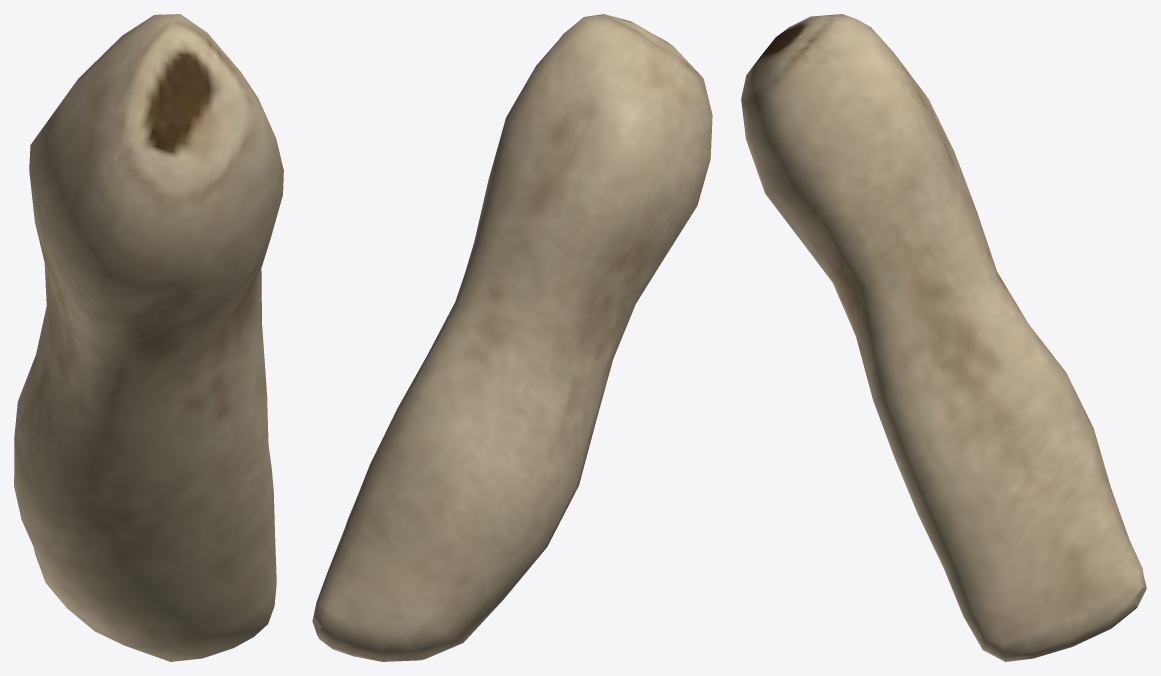
Rendered from Caudal_Vertebrae5.glb.
The picture shows the model from 3 angles, left to right: view 1: azimuth 30°, elevation 25°; view 2: azimuth 150°, elevation 25°; view 3: azimuth 270°, elevation 25°; orthographic projection. The views are drawn at different scales.
Visible parts, largest first — view 1: Caudal_Vertebrae_06; view 2: Caudal_Vertebrae_06; view 3: Caudal_Vertebrae_06.
Part boxes in pixels (x1,y1,x2,y2): Caudal_Vertebrae_06: (14,14,283,661); Caudal_Vertebrae_06: (312,14,712,661); Caudal_Vertebrae_06: (741,14,1146,661).
Bounding box in the file's own units: 0.02 × 0.0452 × 0.0284.
1 material, 1 textured.
